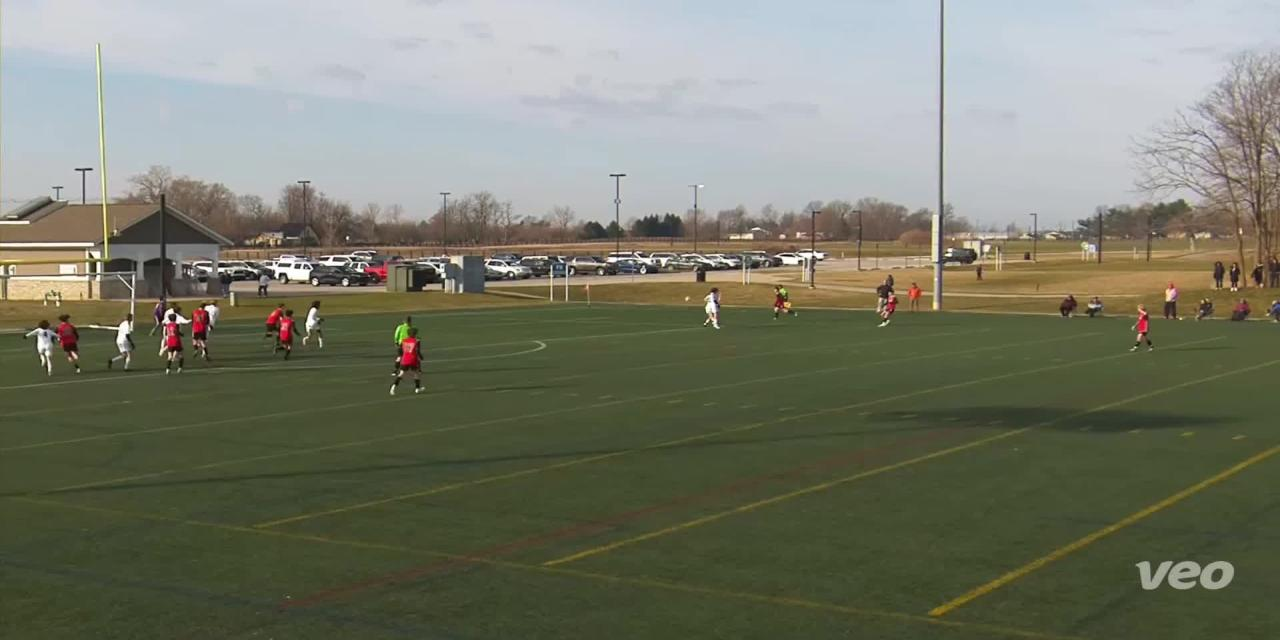sports ball: (680, 293, 697, 308)
